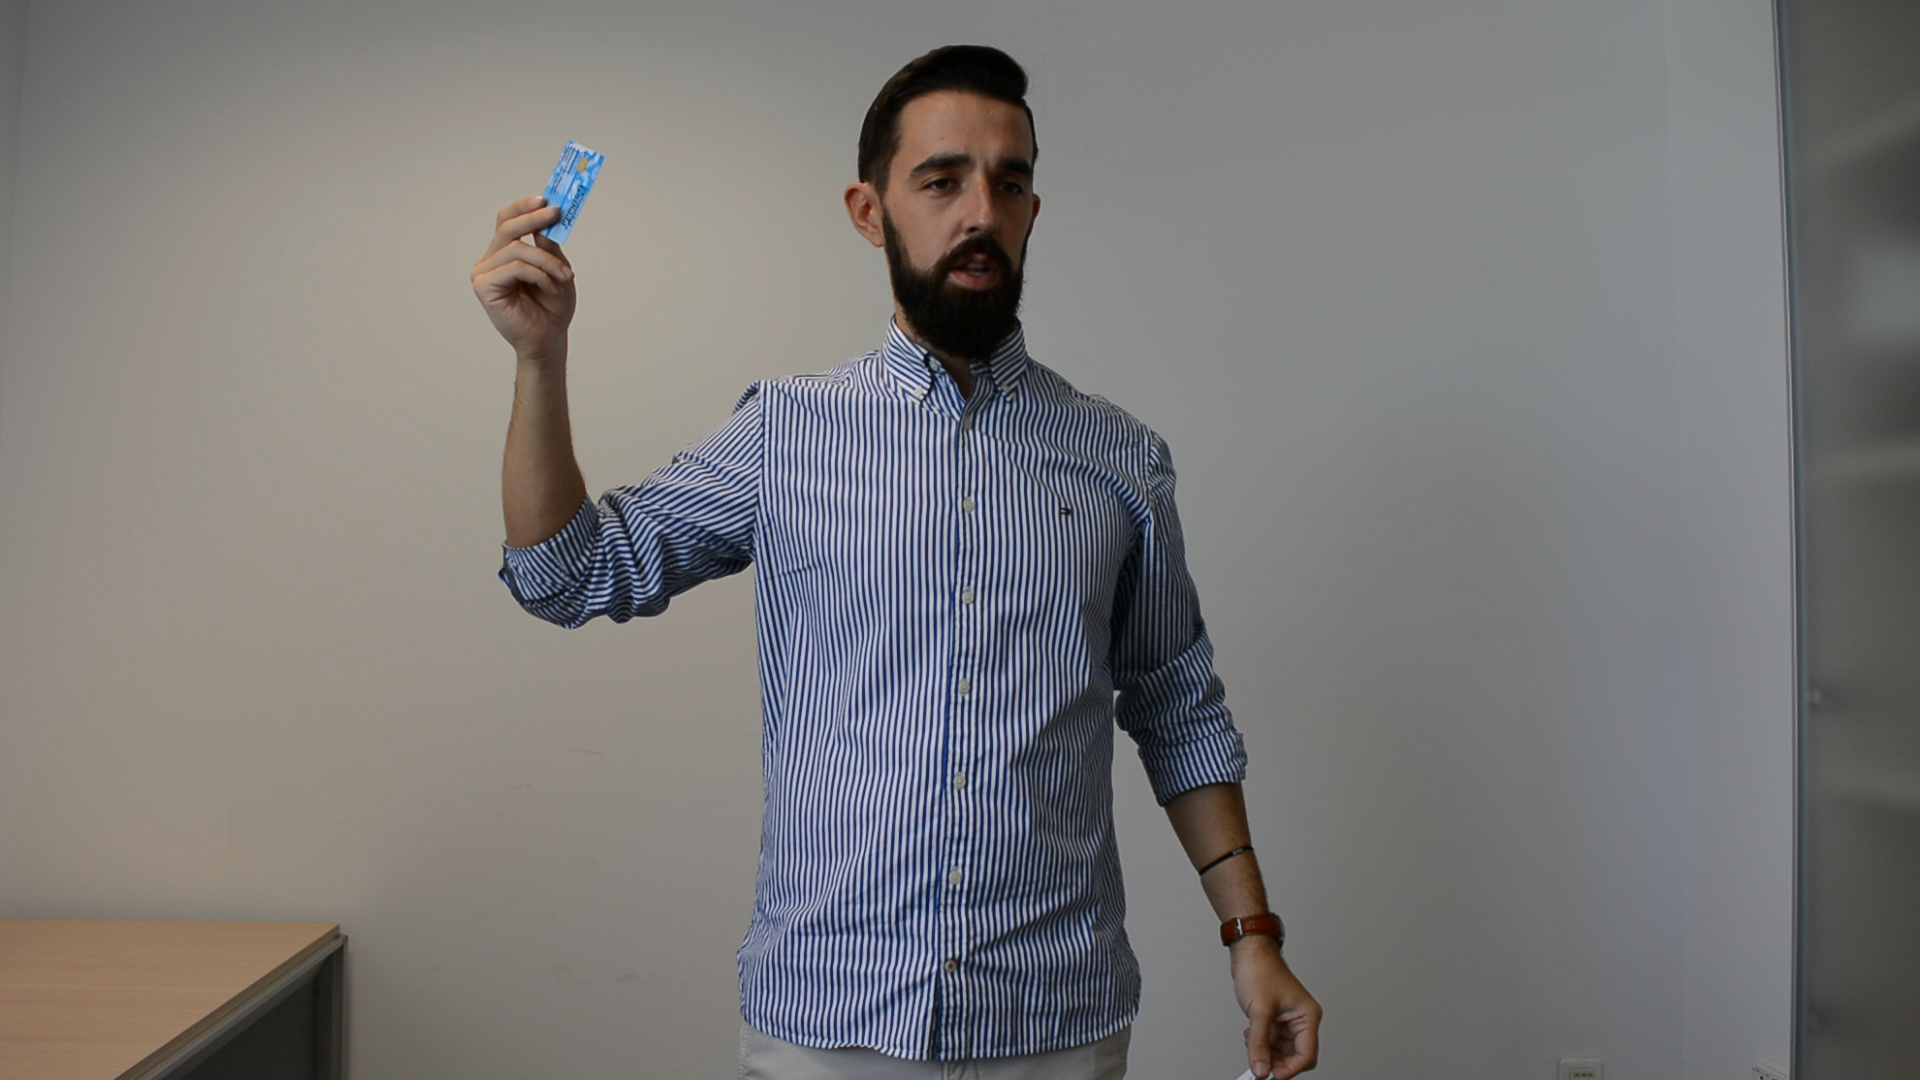tarjeta: (529, 136, 607, 251)
